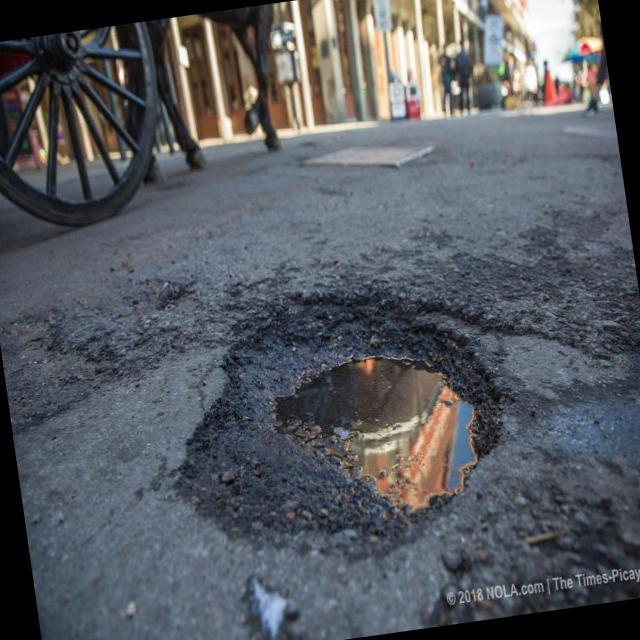Pothole: (180, 300, 505, 542)
